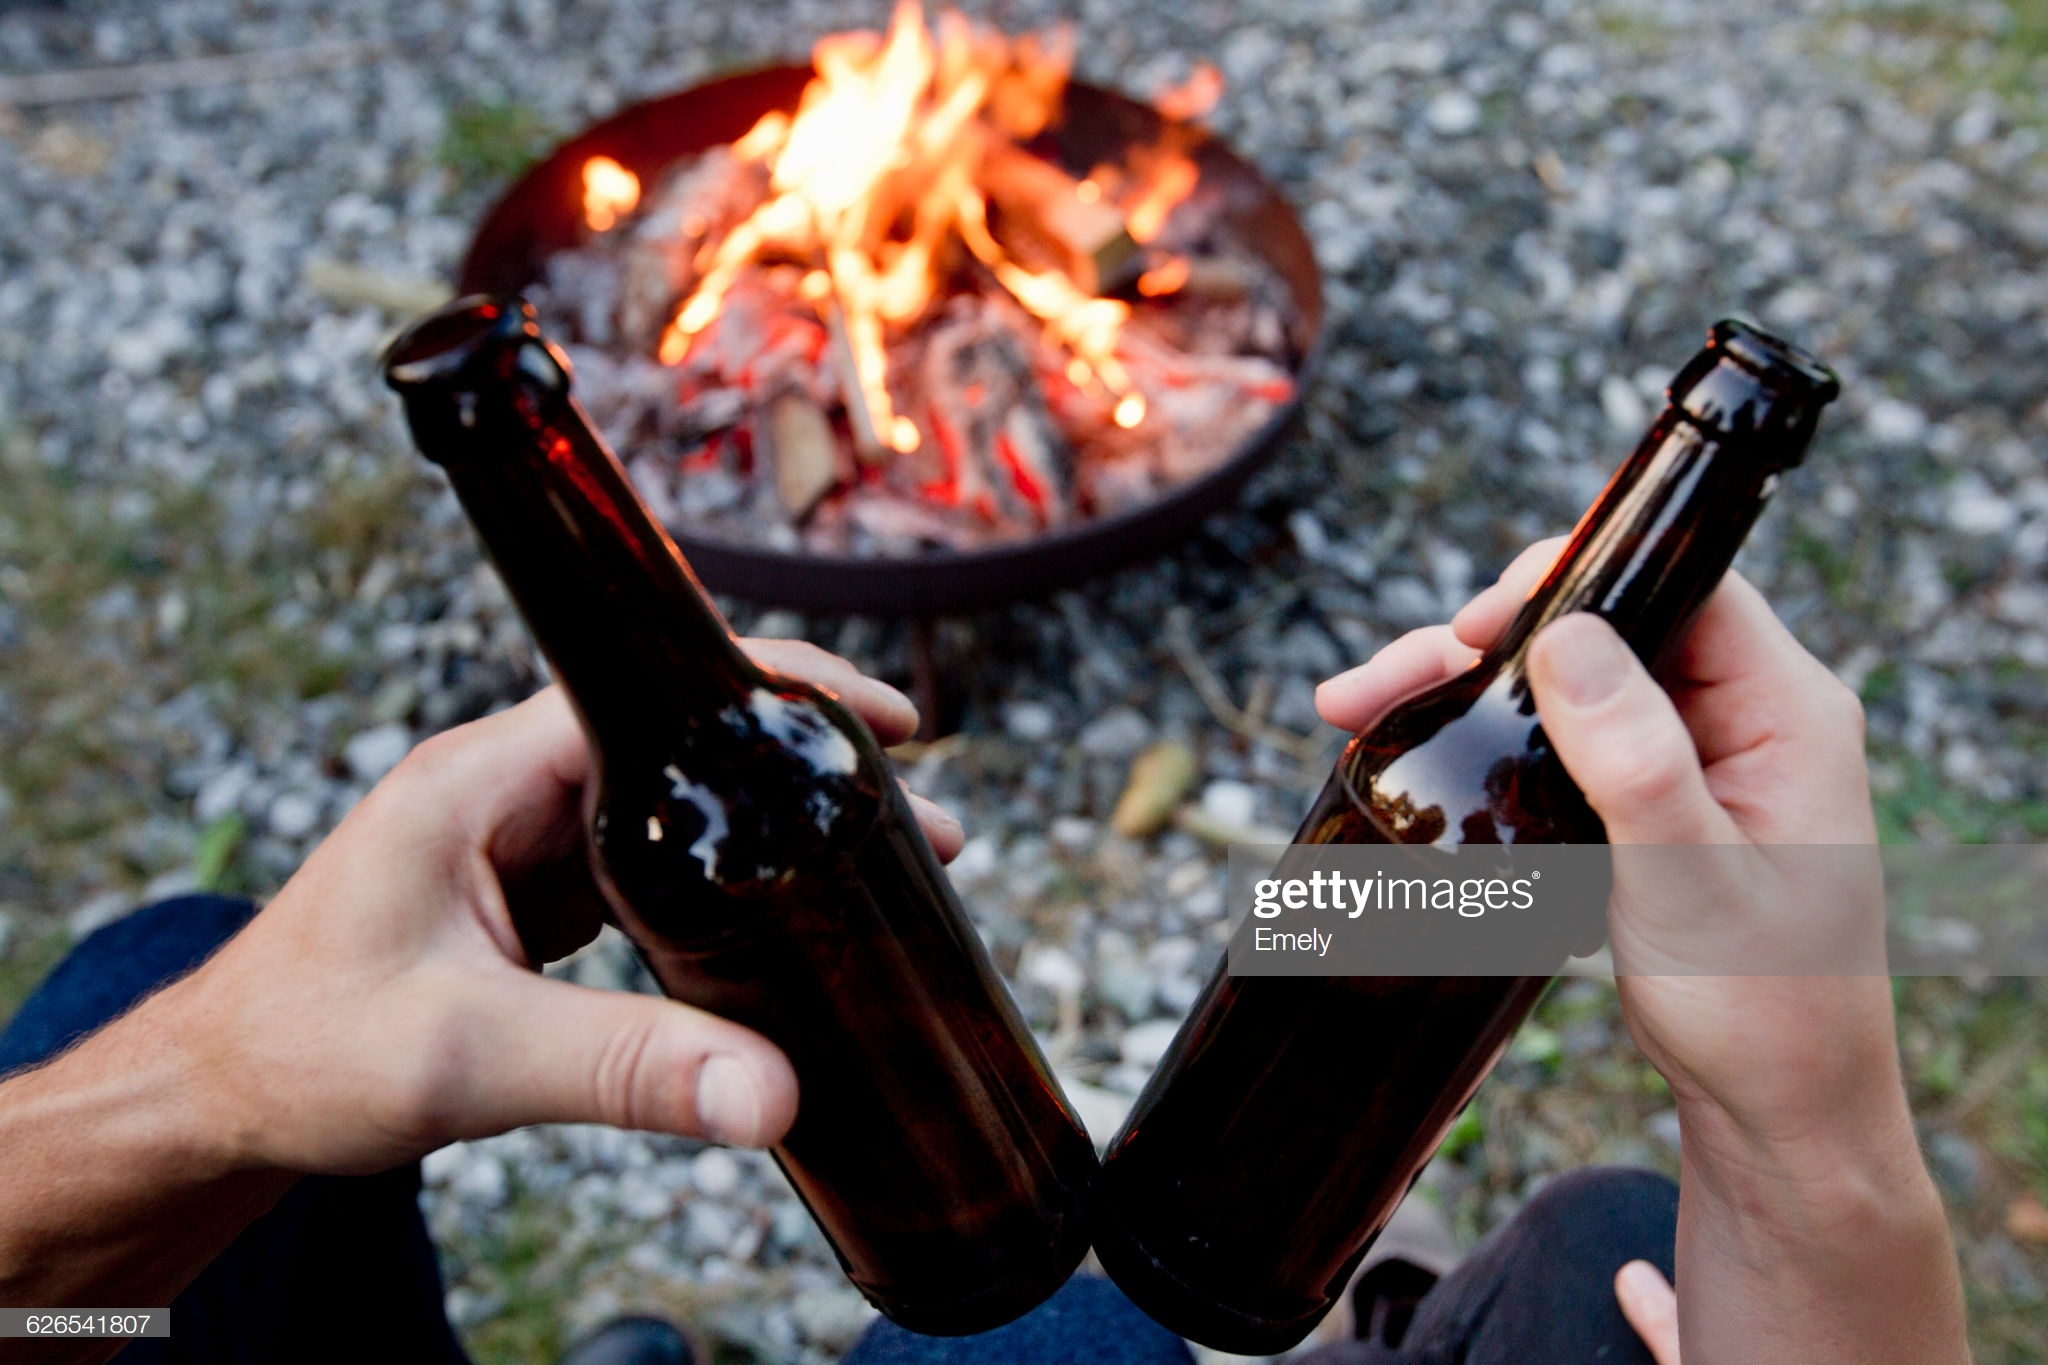beerBottle: (1107, 324, 1842, 1342), (391, 305, 1092, 1313)
